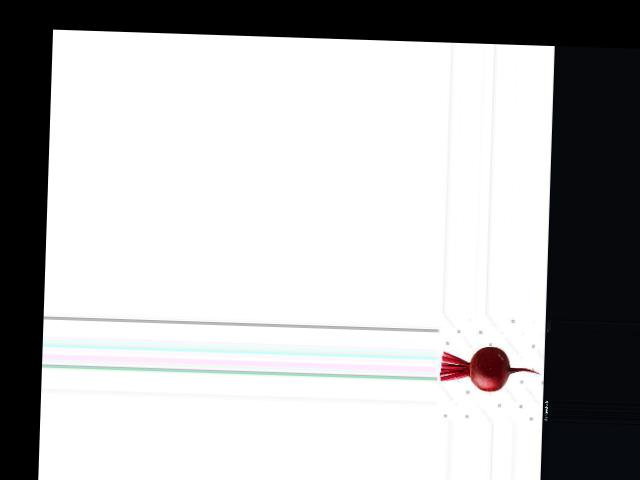beet: (439, 345, 542, 392)
